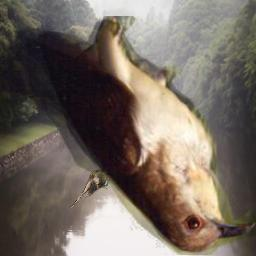Cuckoo: (0, 16, 256, 255), (70, 167, 114, 209)
Swallow: (83, 61, 188, 177)
